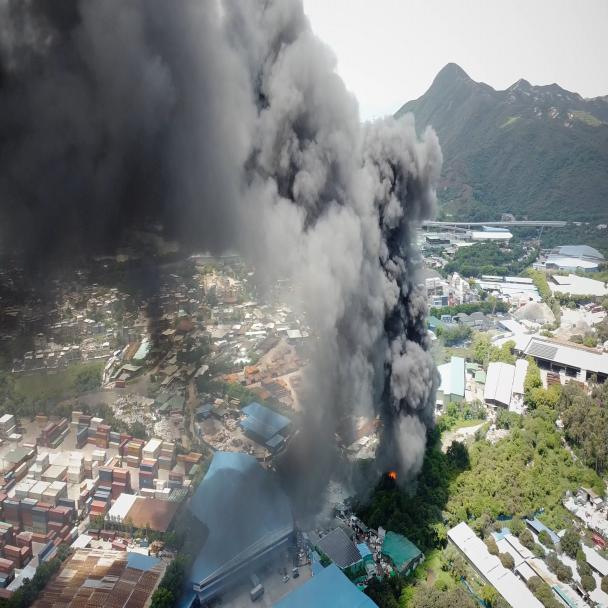Fire: (379, 458, 402, 490)
smoke: (5, 0, 455, 442)
